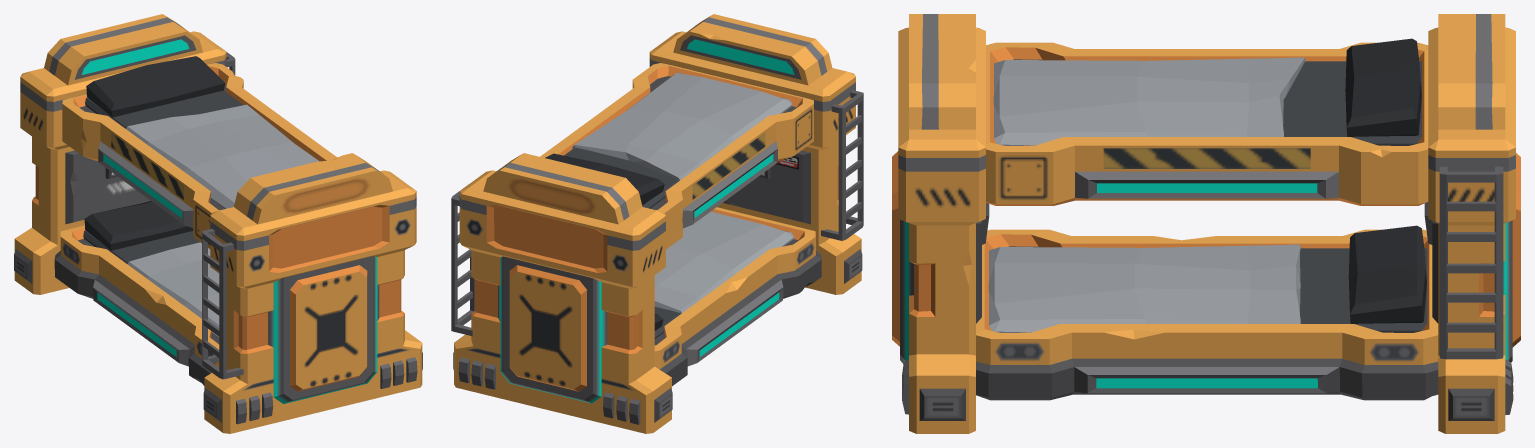
Rendered from SM_Prop_Bunk_Bed_01.fbx.
3 views of the same model, side by side, from view 1: azimuth 30°, elevation 25°; view 2: azimuth 150°, elevation 25°; view 3: azimuth 270°, elevation 25° (orthographic). The views are drawn at different scales.
Parts seen in each view (by area): view 1: SM_Prop_Bunk_Bed_01; view 2: SM_Prop_Bunk_Bed_01; view 3: SM_Prop_Bunk_Bed_01.
Boxes of the visible parts, x1,y1,x2,y2 form: SM_Prop_Bunk_Bed_01: (14,14,422,433); SM_Prop_Bunk_Bed_01: (451,14,863,433); SM_Prop_Bunk_Bed_01: (892,14,1520,433).
Size of the model in its own units: 172 by 182 by 327.
